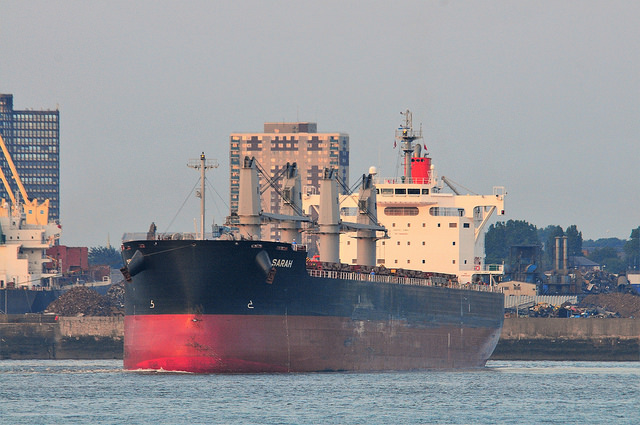bulk carrier: (117, 111, 507, 369)
